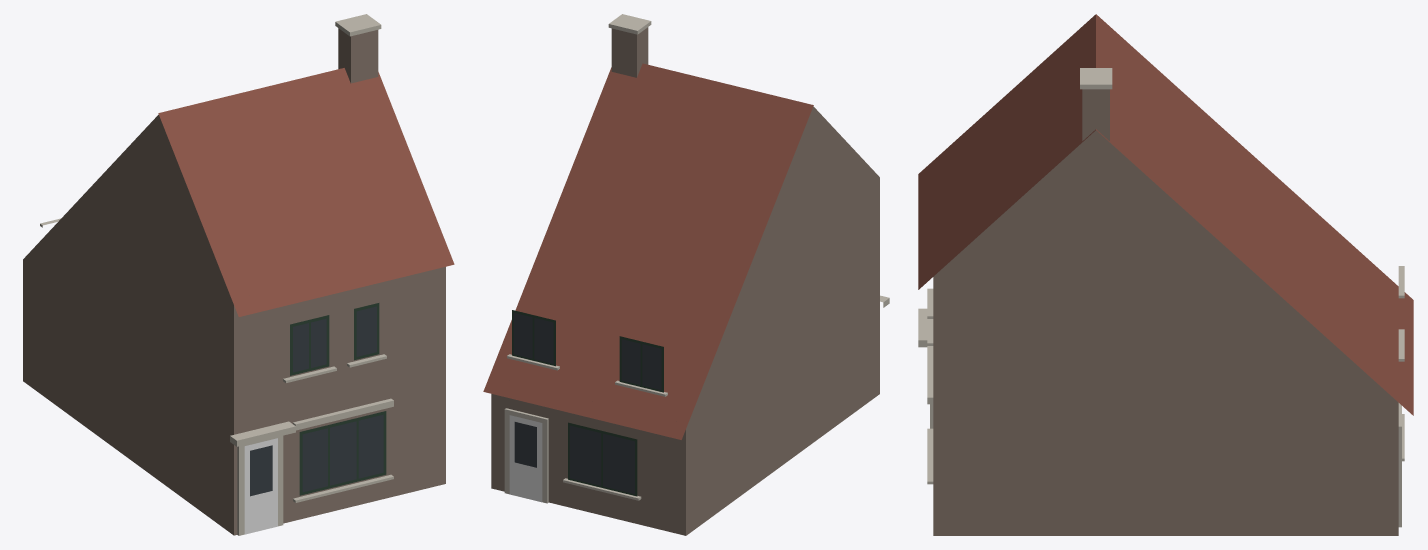
The model's file is nw-ma-green__cahn__2__gable__long__solid.glb.
3 views of the same model, side by side, from view 1: azimuth 30°, elevation 25°; view 2: azimuth 150°, elevation 25°; view 3: azimuth 270°, elevation 25° (orthographic). The views are drawn at different scales.
Parts seen in each view (by area): view 1: nw-ma-green__cahn__2__gable__long__solid; view 2: nw-ma-green__cahn__2__gable__long__solid; view 3: nw-ma-green__cahn__2__gable__long__solid.
Part boxes in pixels (x1,y1,x2,y2): nw-ma-green__cahn__2__gable__long__solid: (23, 14, 454, 535); nw-ma-green__cahn__2__gable__long__solid: (483, 14, 889, 535); nw-ma-green__cahn__2__gable__long__solid: (918, 14, 1413, 535).
Bounding box in the file's own units: 5.54 × 9.97 × 9.89.
